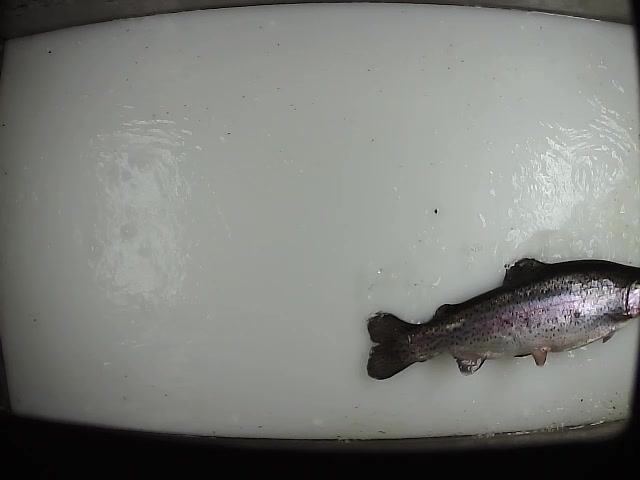fish: (357, 255, 640, 385)
